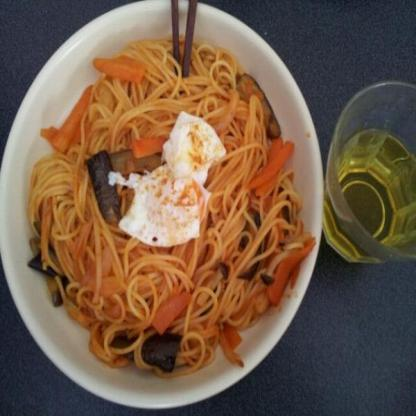pasta: (38, 34, 307, 374)
